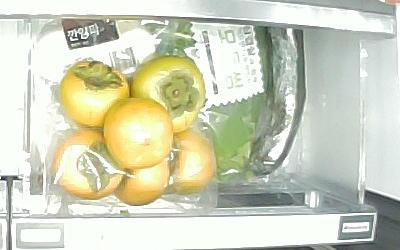persimmon: (130, 55, 206, 132), (103, 98, 172, 169), (59, 59, 130, 127), (112, 164, 171, 206)
persimmon_vinyl: (53, 129, 123, 200), (173, 131, 215, 195)
